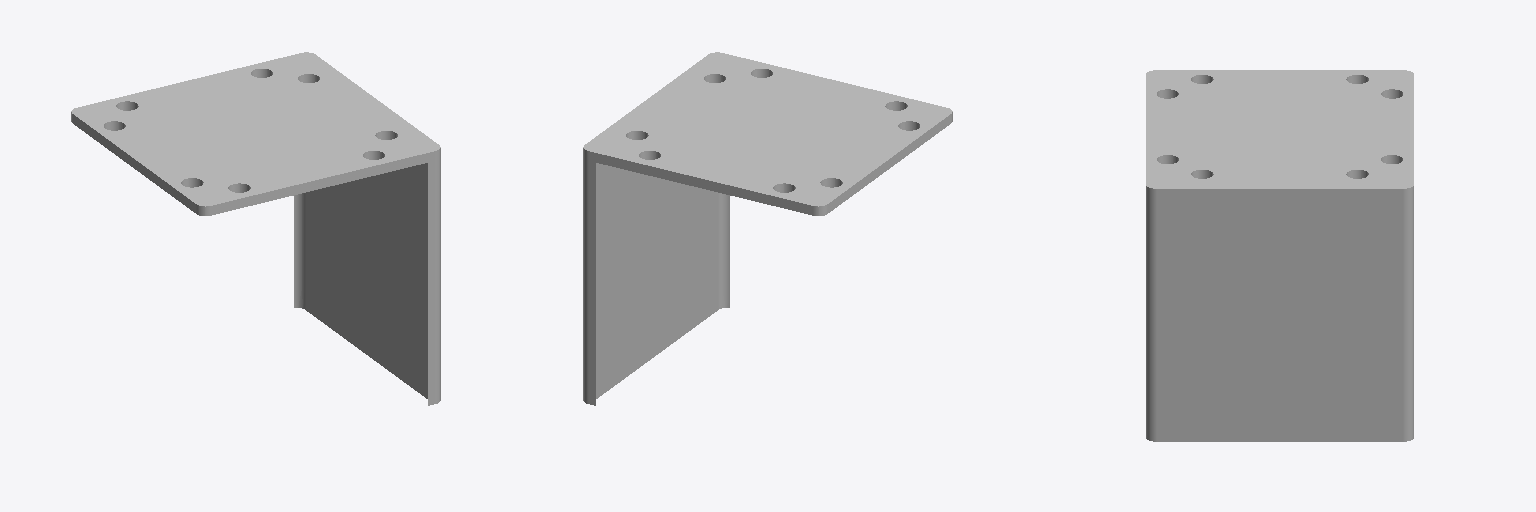
File: V5_Outer Cover.obj
3 views of the same model, side by side, from view 1: azimuth 30°, elevation 25°; view 2: azimuth 150°, elevation 25°; view 3: azimuth 270°, elevation 25° (orthographic).
Visible parts, largest first — view 1: Solid1:54; view 2: Solid1:54; view 3: Solid1:54.
Part boxes in pixels (x1,y1,x2,y2): Solid1:54: (71, 52, 440, 405); Solid1:54: (583, 52, 952, 405); Solid1:54: (1146, 70, 1413, 441).
Bounding box in the file's own units: 52.02 × 51.8 × 49.75.